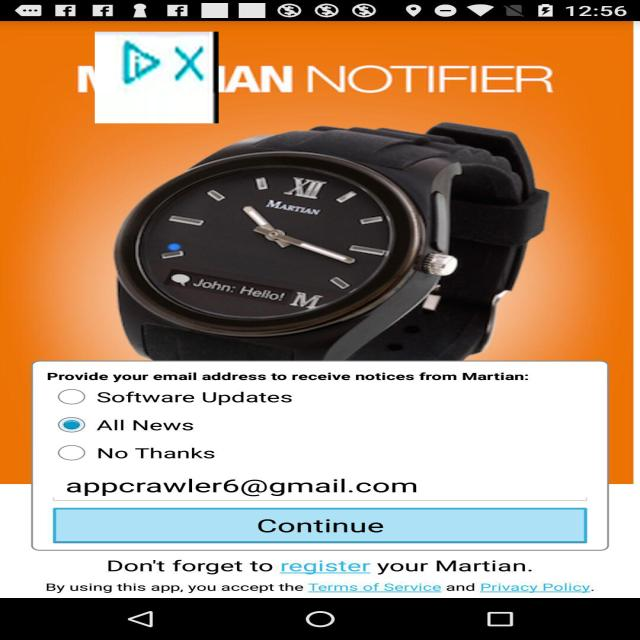sneaking: (94, 32, 218, 123)
